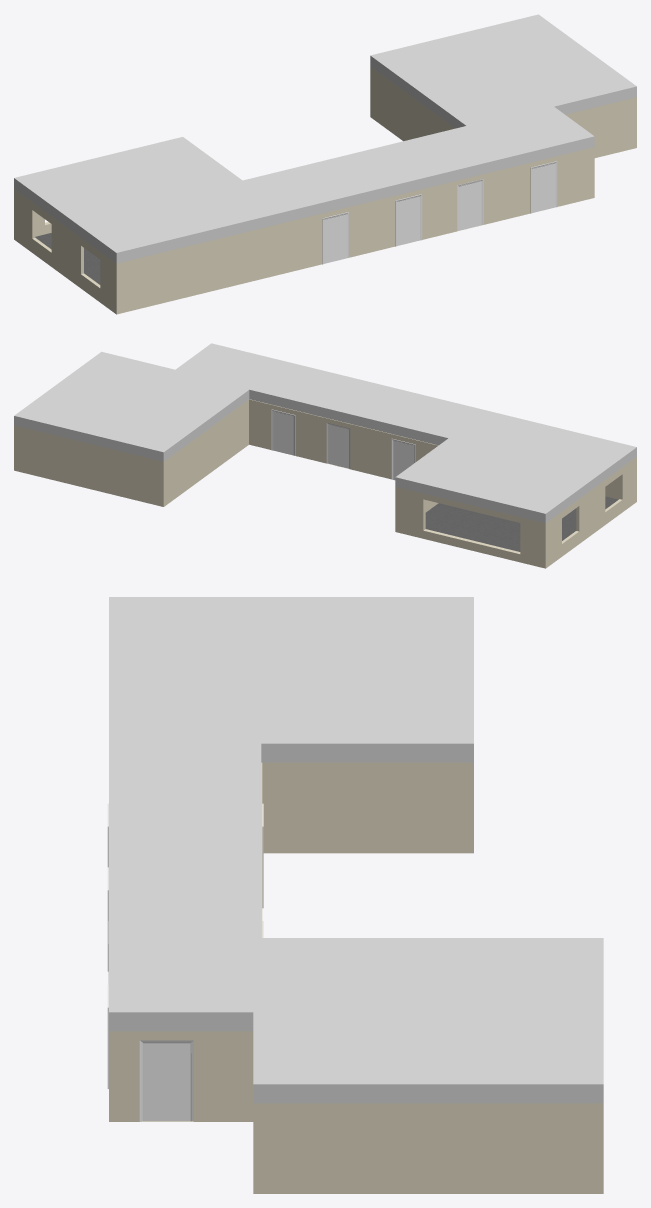
The model's file is classroom.glb.
3 renders of one model, top to bottom at view 1: azimuth 30°, elevation 25°; view 2: azimuth 150°, elevation 25°; view 3: azimuth 270°, elevation 25°, orthographic. The views are drawn at different scales.
Parts seen in each view (by area): view 1: Plane.013, Plane.014, Plane.015, Plane.001, Plane.009, Plane.006, Plane.007, Plane.004, Plane.002, Plane.003, Plane.005, Cube.017 (+4 smaller); view 2: Plane.013, Plane.014, Plane.015, Plane.009, Plane.001, Plane, Plane.010, Plane.012, Plane.003, Plane.002, Plane.011, Cube.012 (+2 smaller); view 3: Plane.014, Plane.013, Plane.015, Plane.009, Plane.001, Plane.008, Cube.009.
Boxes of the visible parts, box(x1,y1,x2,y2) form: Plane.013: box(14, 137, 285, 263); Plane.014: box(370, 14, 636, 128); Plane.015: box(243, 106, 594, 222); Plane.001: box(14, 189, 307, 314); Plane.009: box(370, 66, 636, 157); Plane.006: box(515, 148, 590, 216); Plane.007: box(442, 166, 515, 234); Plane.004: box(307, 199, 380, 267); Plane.002: box(16, 191, 65, 276); Plane.003: box(65, 226, 113, 312); Plane.005: box(380, 184, 442, 249); Cube.017: box(530, 161, 557, 213); Plane.013: box(395, 410, 636, 523); Plane.014: box(14, 351, 250, 461); Plane.015: box(175, 343, 486, 445); Plane.009: box(14, 400, 248, 506); Plane.001: box(395, 457, 636, 568); Plane: box(425, 496, 618, 551); Plane.010: box(249, 399, 308, 458); Plane.012: box(363, 427, 438, 479); Plane.003: box(591, 458, 634, 534); Plane.002: box(548, 490, 591, 566); Plane.011: box(308, 414, 363, 472); Cube.012: box(271, 409, 295, 455); Plane.014: box(253, 938, 603, 1103); Plane.013: box(109, 597, 473, 762); Plane.015: box(109, 743, 261, 1031); Plane.009: box(253, 1103, 603, 1193); Plane.001: box(262, 762, 473, 853); Plane.008: box(109, 1031, 253, 1121); Cube.009: box(139, 1040, 193, 1121).
Size of the model in its own units: 11946 by 1253 by 5762.
27 materials, 3 textured.
